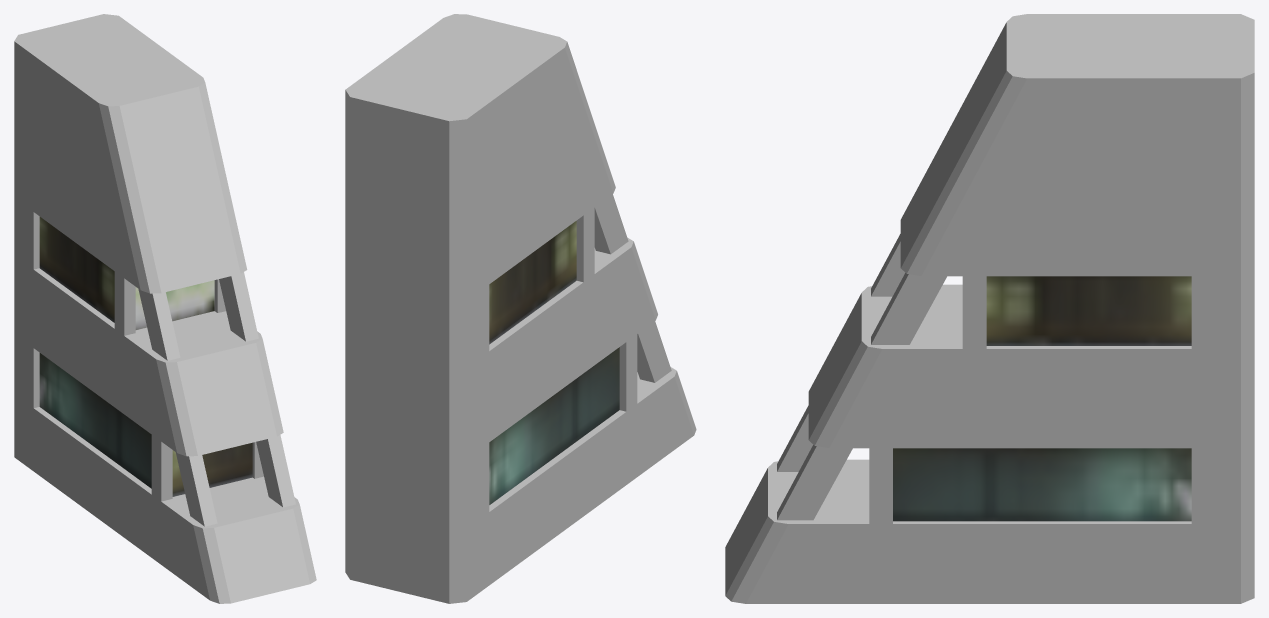
File: hirise_top43c.fbx
The picture shows the model from 3 angles, left to right: view 1: azimuth 30°, elevation 25°; view 2: azimuth 150°, elevation 25°; view 3: azimuth 270°, elevation 25°; orthographic projection. The views are drawn at different scales.
Visible parts, largest first — view 1: hirise_top43c; view 2: hirise_top43c; view 3: hirise_top43c.
Part boxes in pixels (left/top/right/bottom): hirise_top43c: left=14, top=14, right=316, bottom=603; hirise_top43c: left=345, top=14, right=696, bottom=603; hirise_top43c: left=725, top=14, right=1254, bottom=603.
Bounding box in the file's own units: 3.32 × 12.61 × 11.51.
